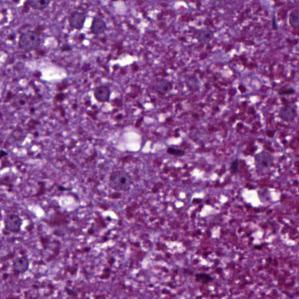inflammation: (69, 10, 108, 35), (89, 83, 116, 110), (247, 223, 272, 250), (90, 84, 115, 105), (165, 146, 188, 161), (195, 269, 214, 285)
